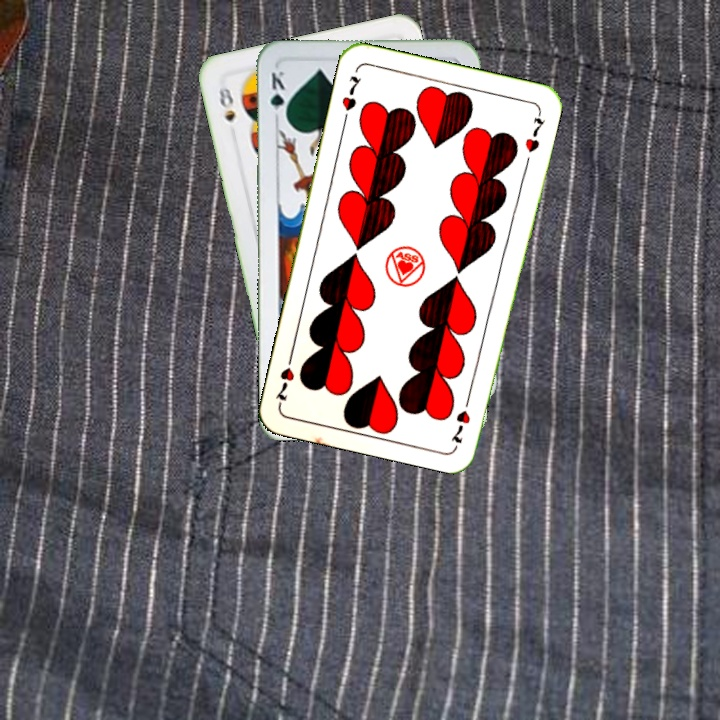GK: (267, 67, 289, 124)
H7: (337, 71, 364, 125), (450, 390, 474, 446)
S8: (215, 83, 238, 124)
